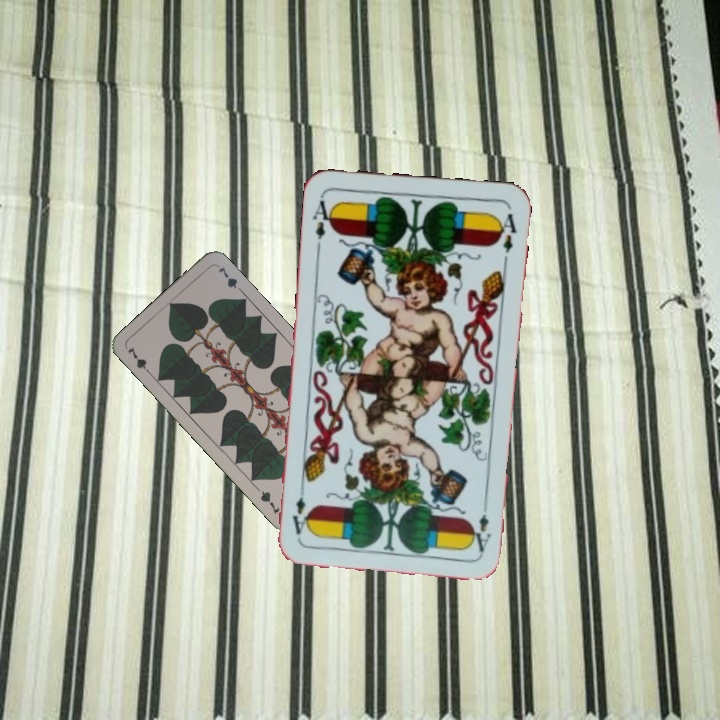EA: (308, 196, 337, 252), (469, 496, 493, 554)
G7: (123, 342, 155, 378)
